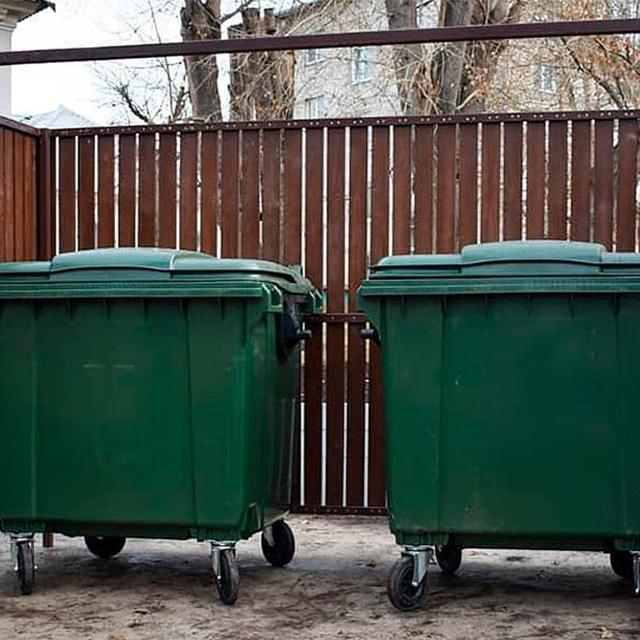Trash_Can_Closed: (0, 245, 322, 543), (357, 238, 640, 552)
